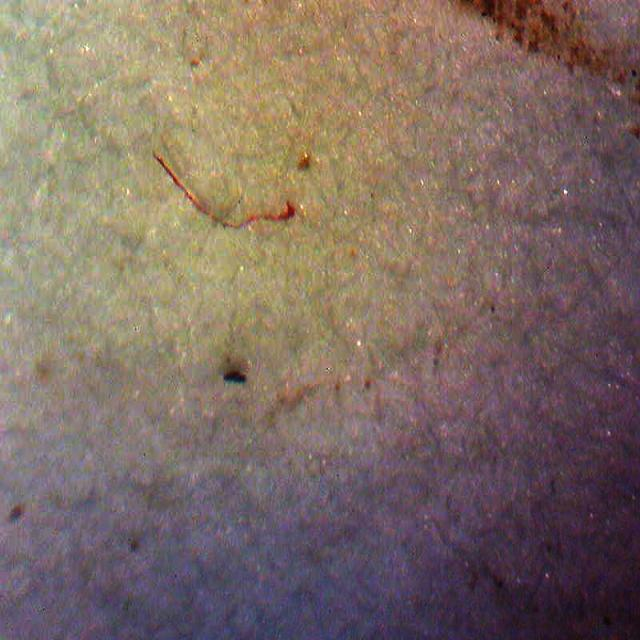microplastic: (153, 156, 297, 230)
